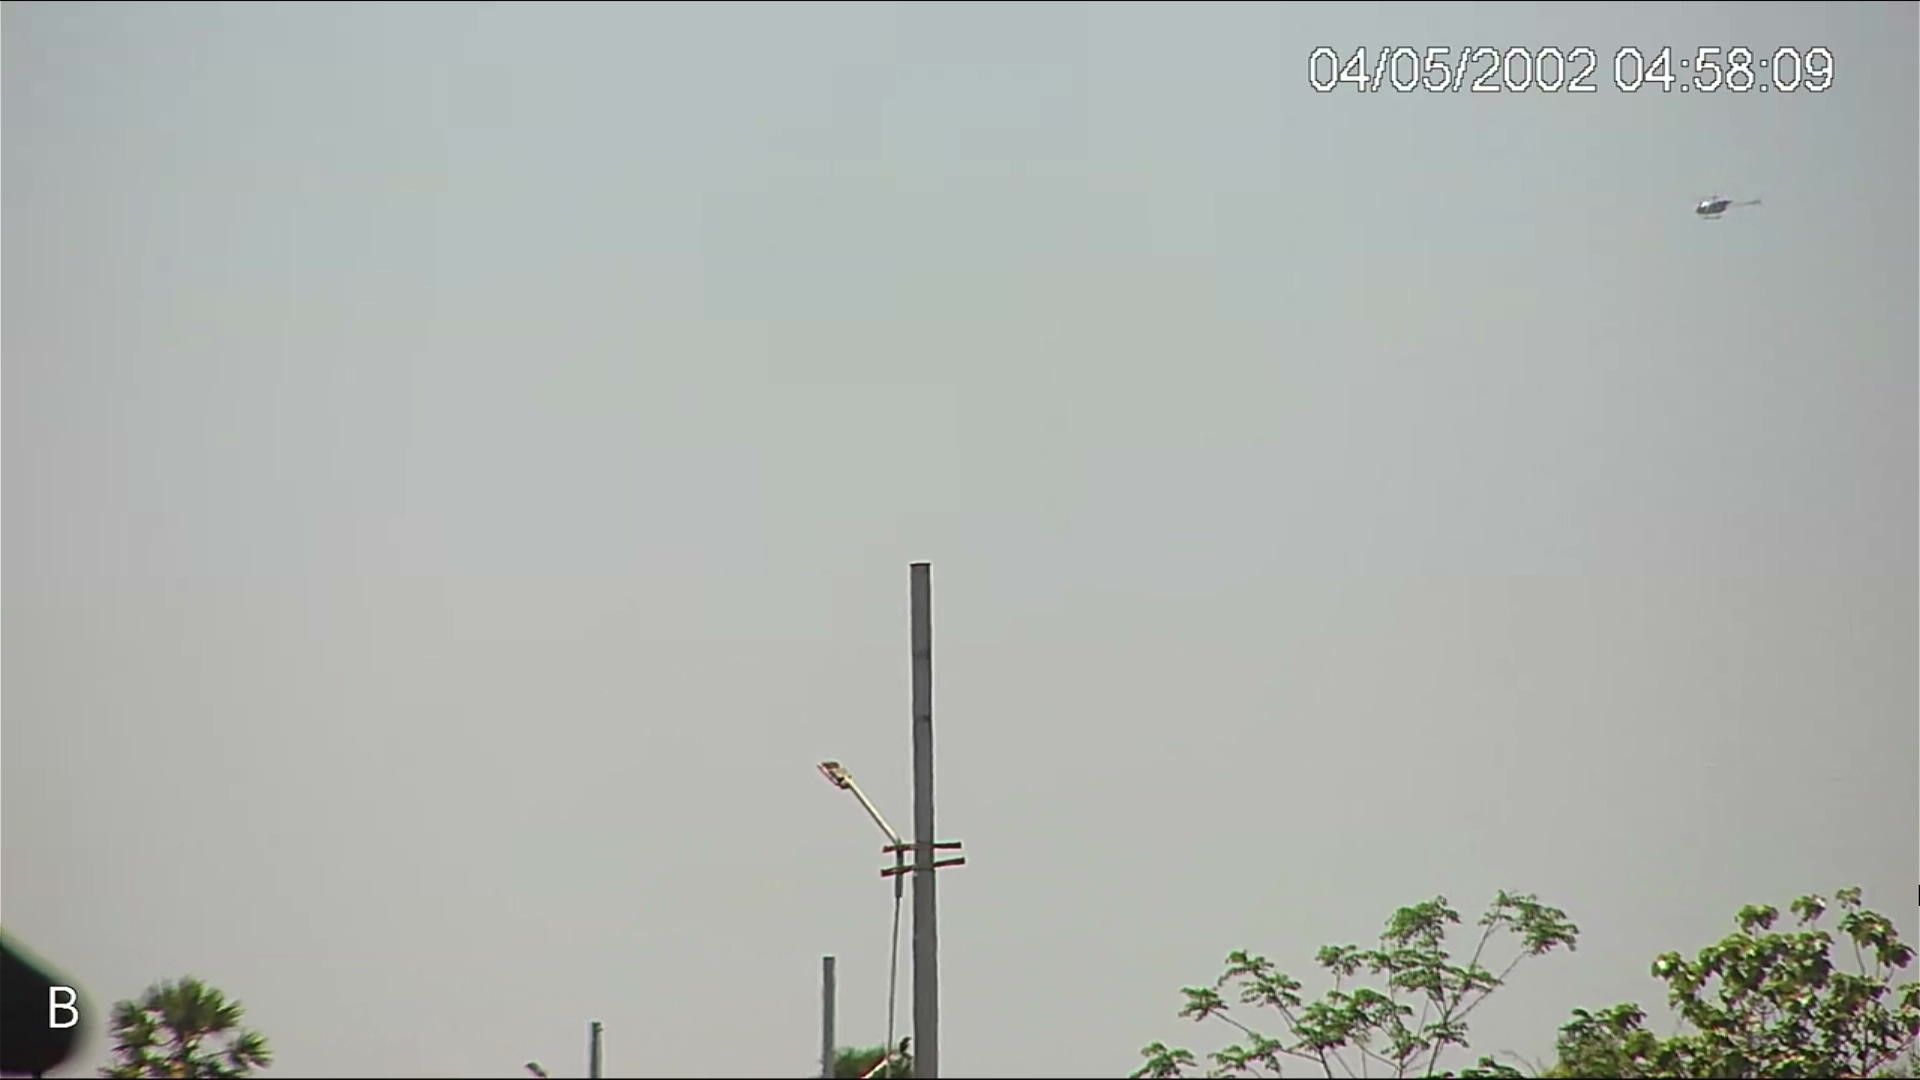SU_30: (1684, 189, 1758, 218)
